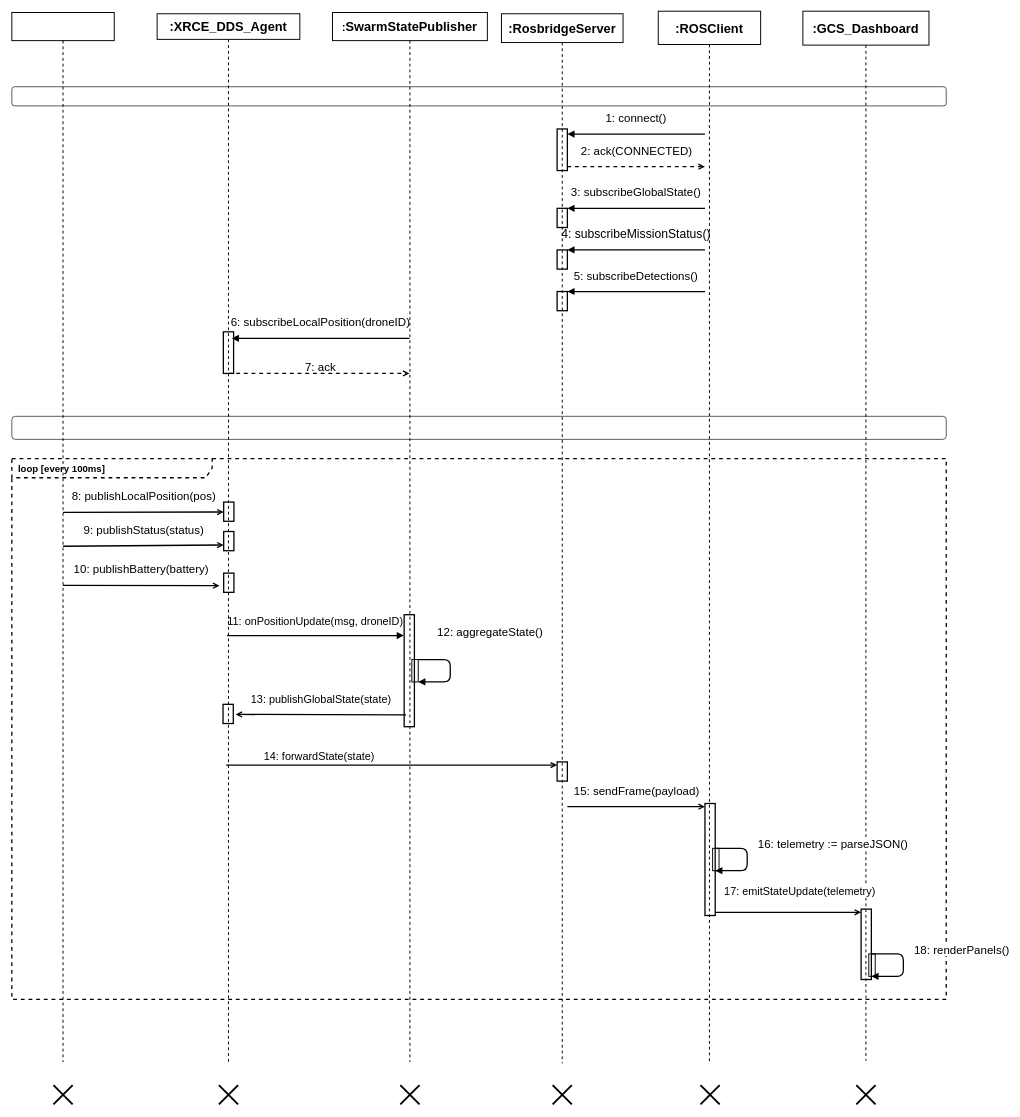
Some shapes in this 1020 by 1117 pixel diagram are drawn without their labels. Here are the shapes that lost their labels. From the top down, the centre of each, then its label:
At [478,96]: "Topic Subscriptions & Handshake".
At [478,427]: "Continuous Telemetry Stream".
At [62,537]: "PX4Autopilot[*]".
